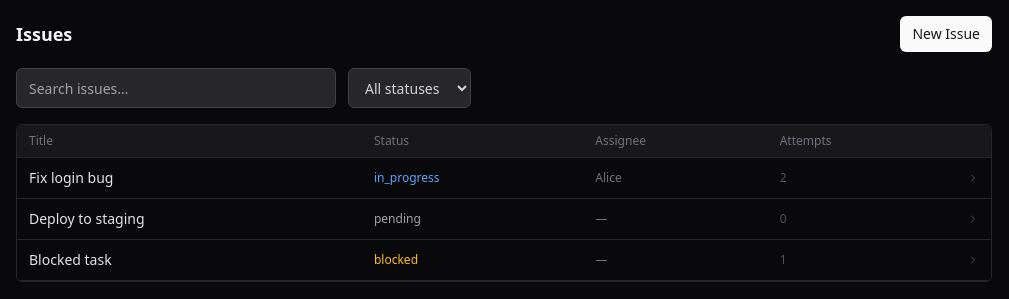
Test case: Issues status filter › status filter dropdown filters issues
Expected: the text "Fix login bug" is shown, [17, 158, 362, 198]
Select "pending" in the dropdown: (410, 88) [348, 68, 471, 108]
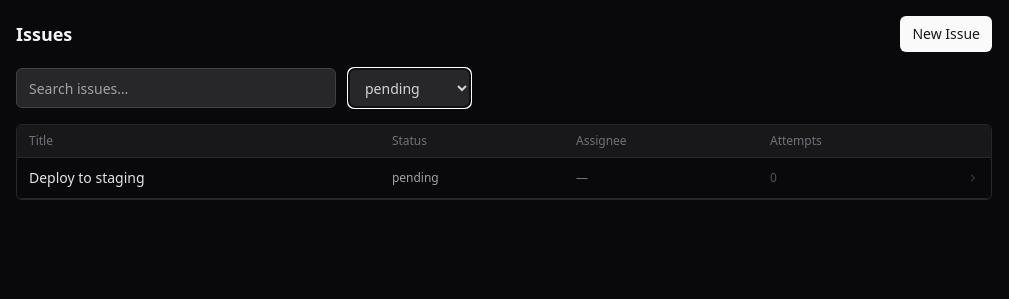
Expected: the text "Deploy to staging" is shown, [17, 158, 380, 198]
Expected: the text "Fix login bug" is gone
